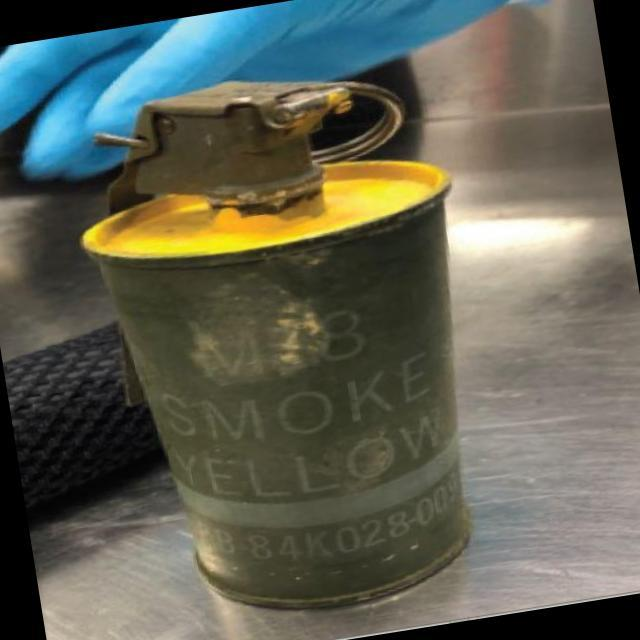grenade: (25, 53, 532, 640)
